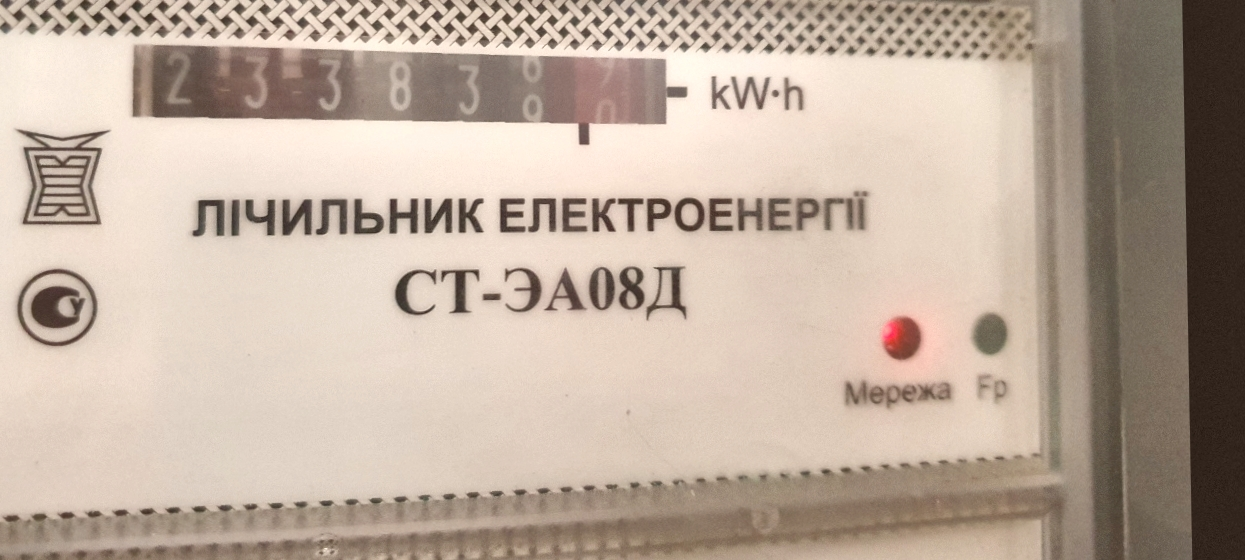0: (592, 95, 619, 130)
2: (159, 47, 199, 108)
3: (310, 52, 347, 116), (241, 51, 270, 110), (455, 58, 484, 116)
8: (382, 55, 417, 114), (520, 51, 546, 83)
9: (589, 52, 620, 91), (519, 90, 548, 126)
screen: (102, 12, 697, 179)
